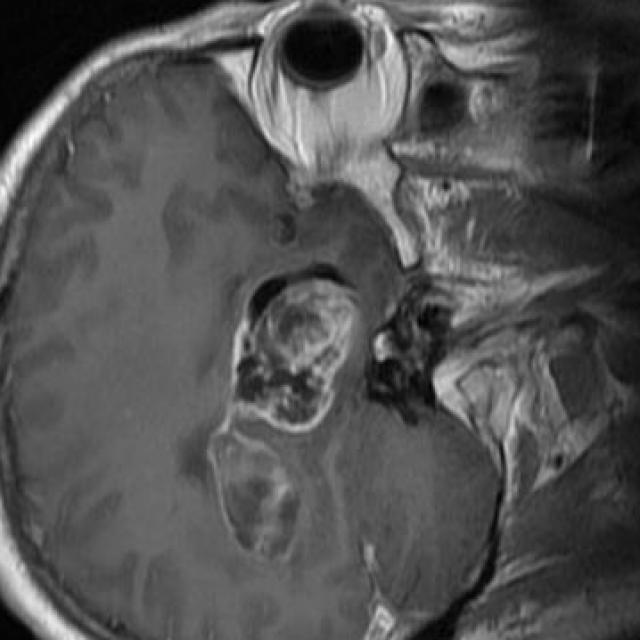glioma: (209, 260, 362, 560)
